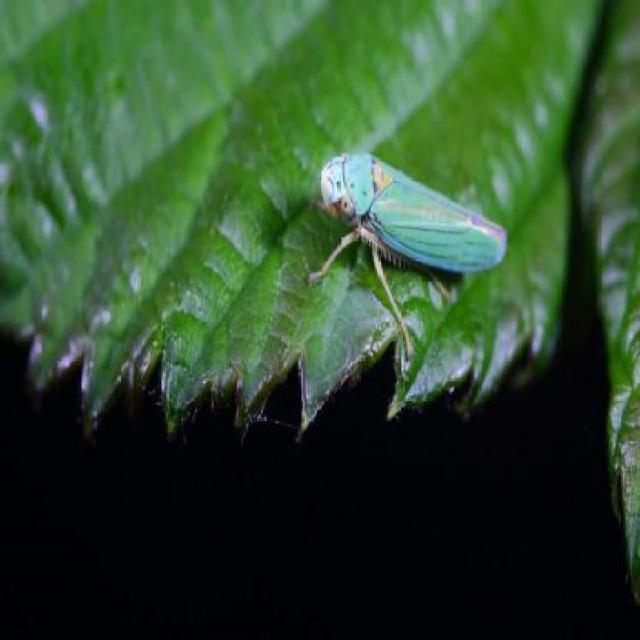green-leafhopper: (306, 148, 499, 329)
